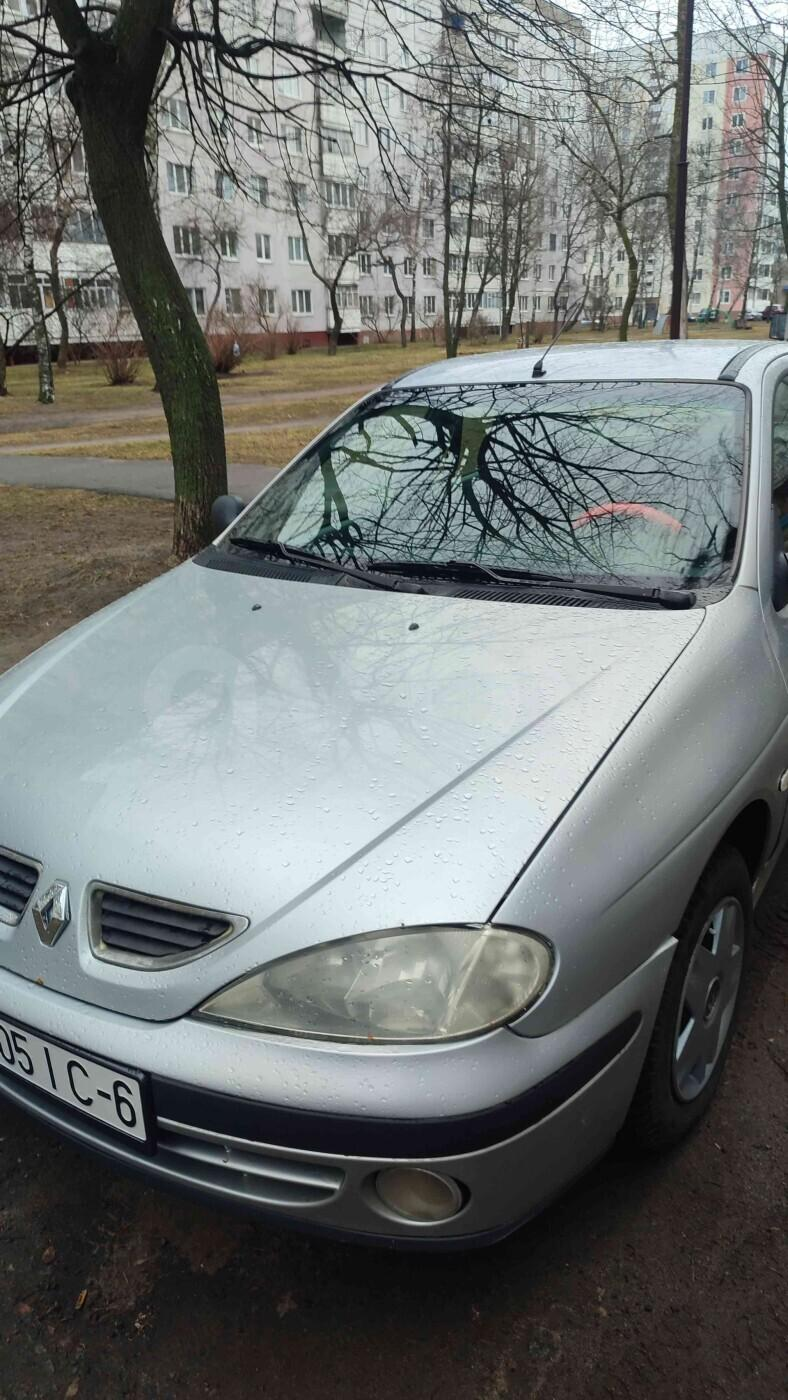Megane_1995-1999: (0, 334, 788, 1284)
